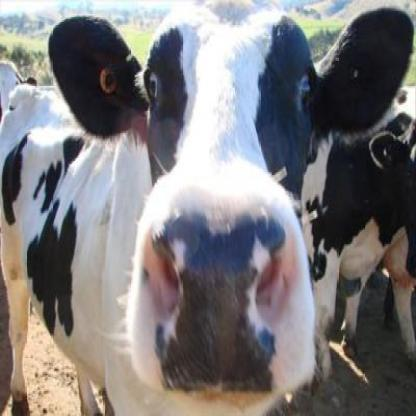lower: (171, 386, 280, 416)
mouth: (126, 168, 317, 414)
upper: (139, 217, 296, 386)
